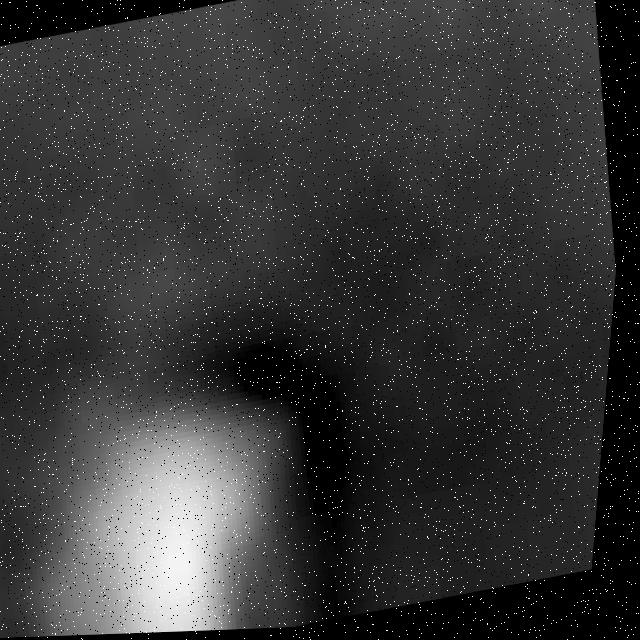person: (4, 238, 351, 640)
